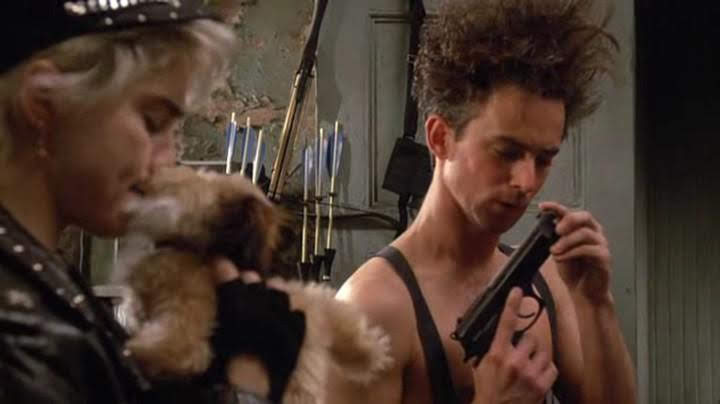gun: (434, 193, 578, 387)
